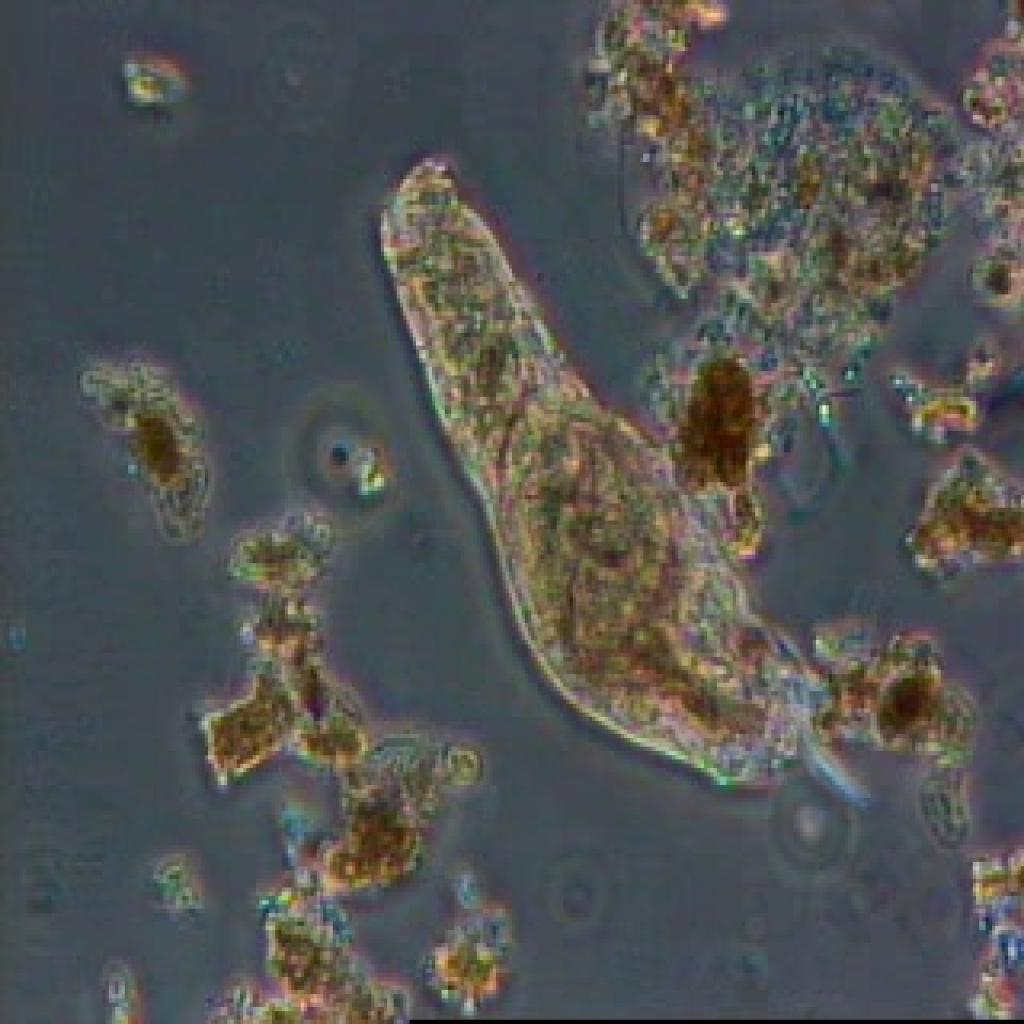Rotatoria: (370, 164, 808, 830)
